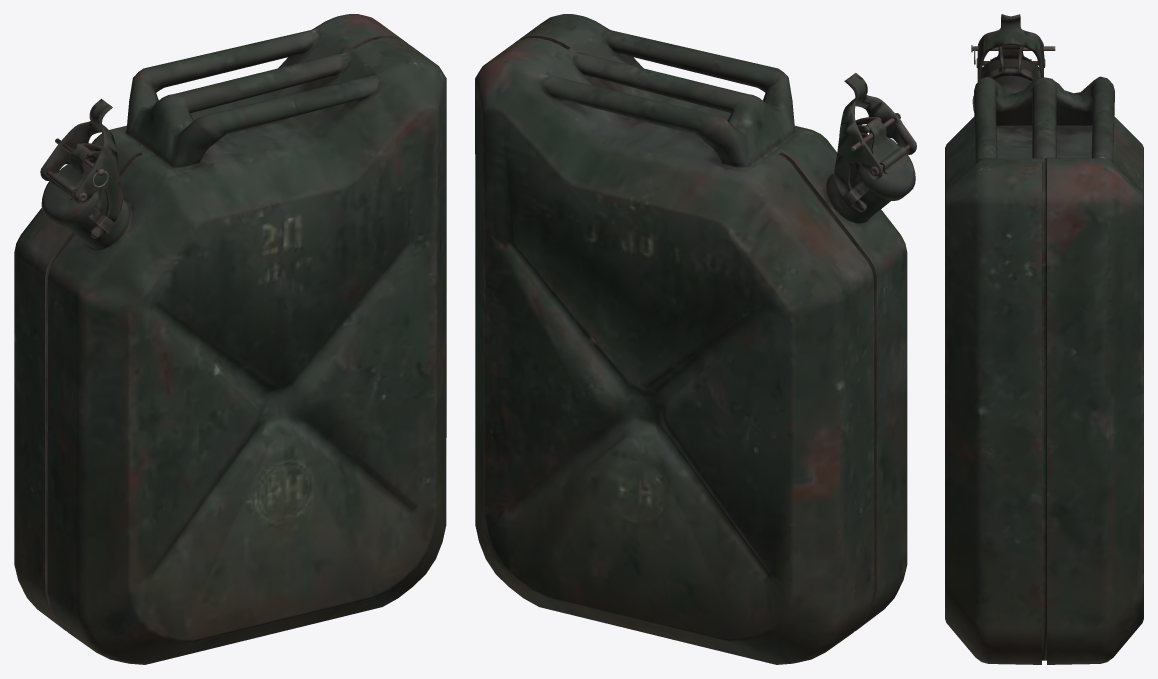
The model's file is jerrycan.glb.
The picture shows the model from 3 angles, left to right: view 1: azimuth 30°, elevation 25°; view 2: azimuth 150°, elevation 25°; view 3: azimuth 270°, elevation 25°; orthographic projection. The views are drawn at different scales.
Parts seen in each view (by area): view 1: metal_jerrycan_green_pin; view 2: metal_jerrycan_green_pin; view 3: metal_jerrycan_green_pin.
Boxes of the visible parts, x1,y1,x2,y2 form: metal_jerrycan_green_pin: (14, 14, 446, 664); metal_jerrycan_green_pin: (475, 14, 916, 664); metal_jerrycan_green_pin: (945, 14, 1143, 664).
Bounding box in the file's own units: 0.3604 × 0.4998 × 0.1709.
Materials: 1 (1 with a texture image).
